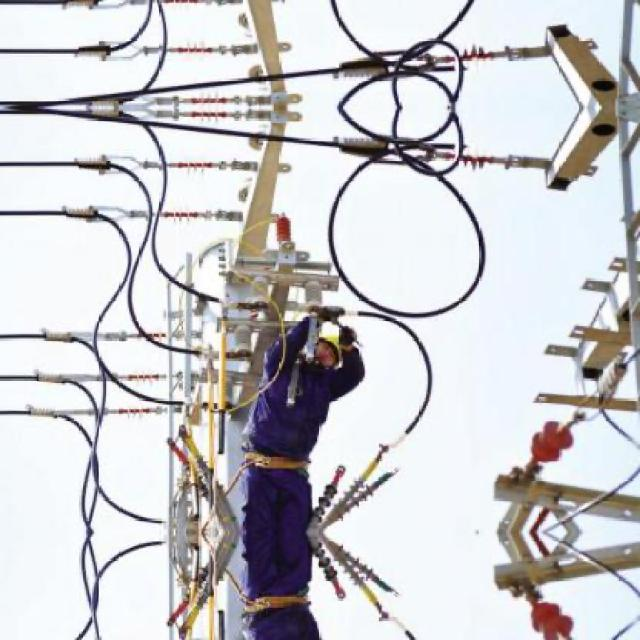sin casco: (278, 295, 366, 366)
